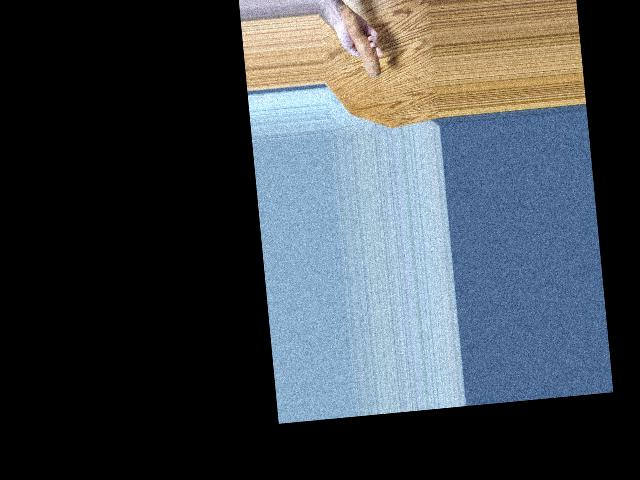sweet_potato: (337, 0, 382, 81)
